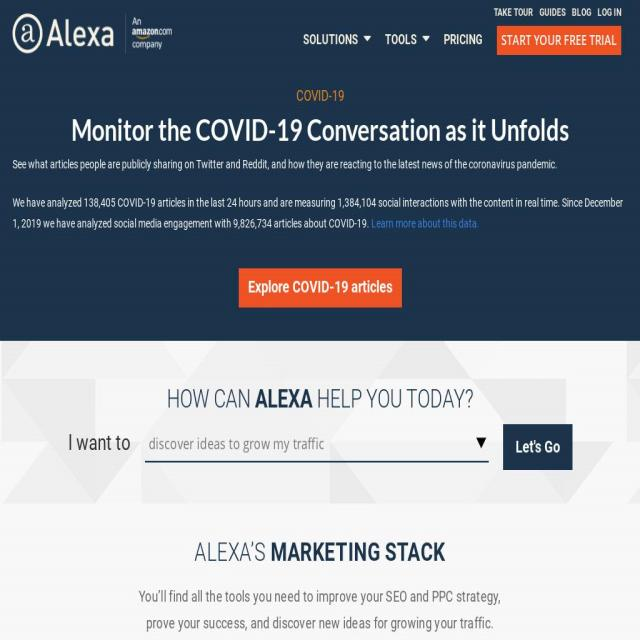login-option: (594, 3, 626, 20)
navigation-links: (289, 5, 635, 73)
search: (50, 378, 585, 494)
